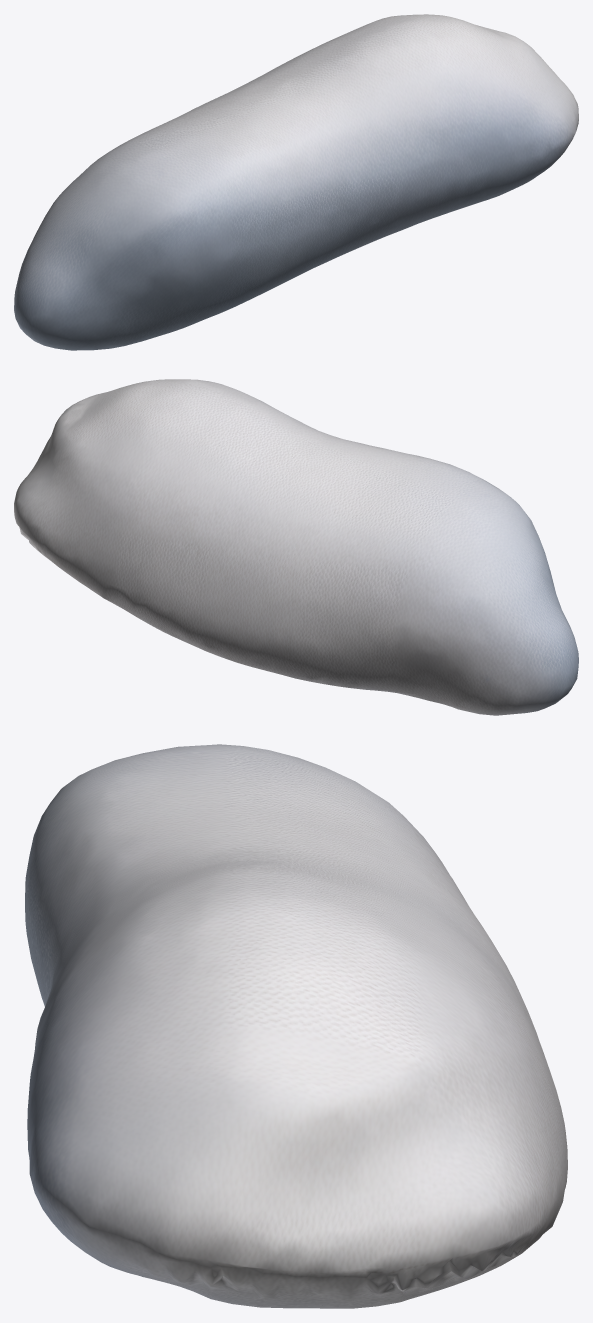
The model's file is PR_SnowSoft_Crescent.fbx.
3 views of the same model, one above another, from view 1: azimuth 30°, elevation 25°; view 2: azimuth 150°, elevation 25°; view 3: azimuth 270°, elevation 25° (orthographic). The views are drawn at different scales.
Parts seen in each view (by area): view 1: texture_mapping; view 2: texture_mapping; view 3: texture_mapping.
Part boxes in pixels (bbox=[...]): texture_mapping: bbox=[14, 14, 578, 350]; texture_mapping: bbox=[14, 379, 578, 715]; texture_mapping: bbox=[25, 744, 567, 1308].
Size of the model in its own units: 1 by 0.4423 by 0.4327.
1 material, 1 textured.
